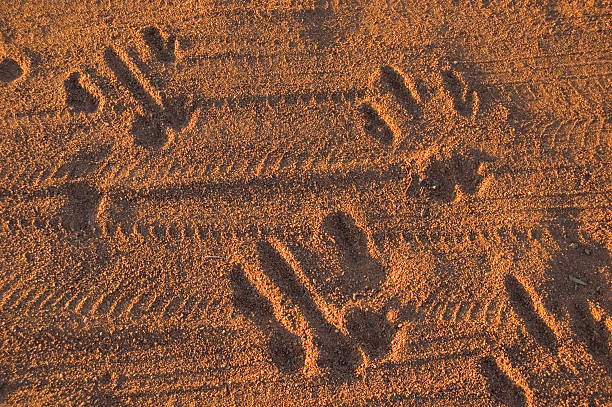animal_footprint: (229, 212, 396, 380), (498, 218, 611, 404), (256, 241, 360, 377), (104, 27, 194, 148), (542, 218, 611, 374), (290, 211, 385, 307), (228, 265, 304, 372), (410, 150, 492, 202), (440, 68, 478, 117), (64, 72, 99, 113), (0, 57, 23, 82)
